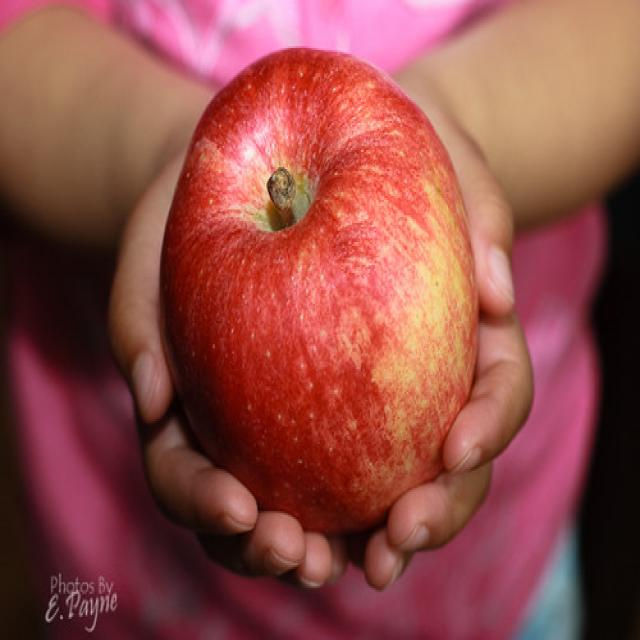Apple: (157, 46, 480, 529)
